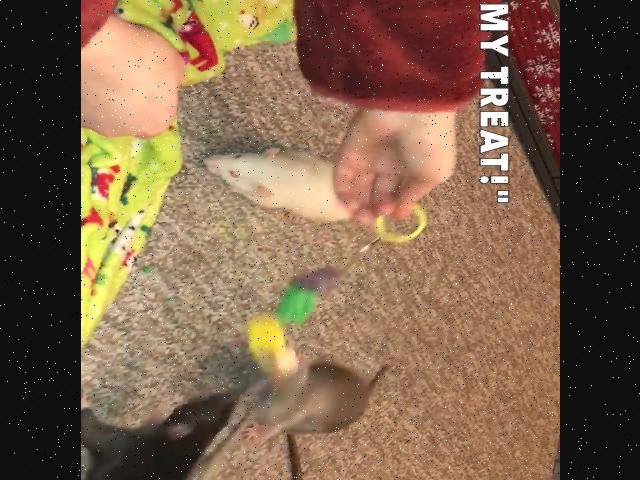Tikus: (240, 359, 400, 447), (200, 147, 334, 220)
